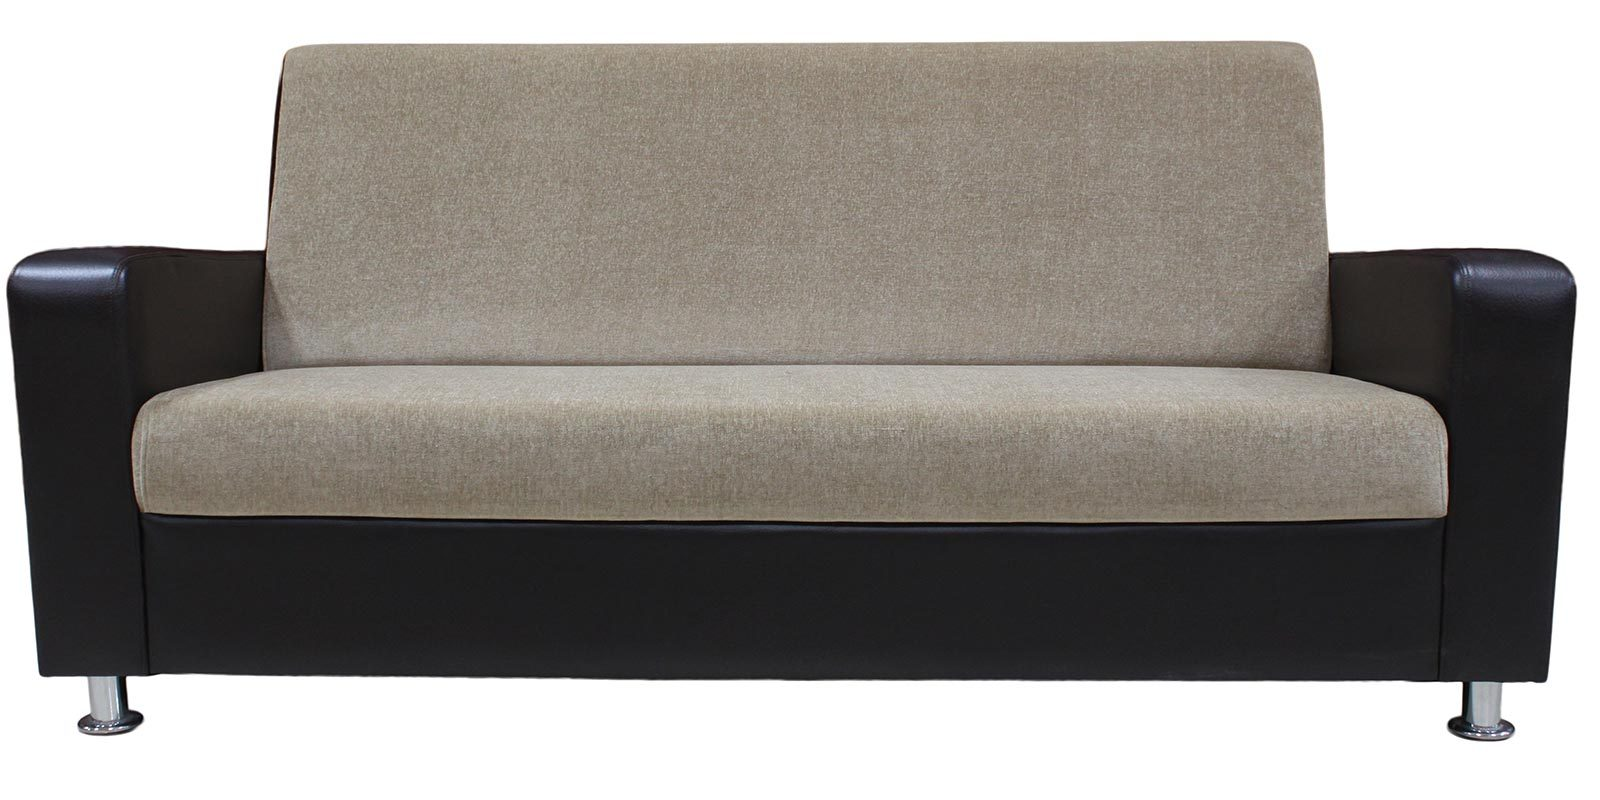New Ciara Three Seater Sofa in Dual Tone by Crystal Furnitech: (7, 39, 1579, 739)
